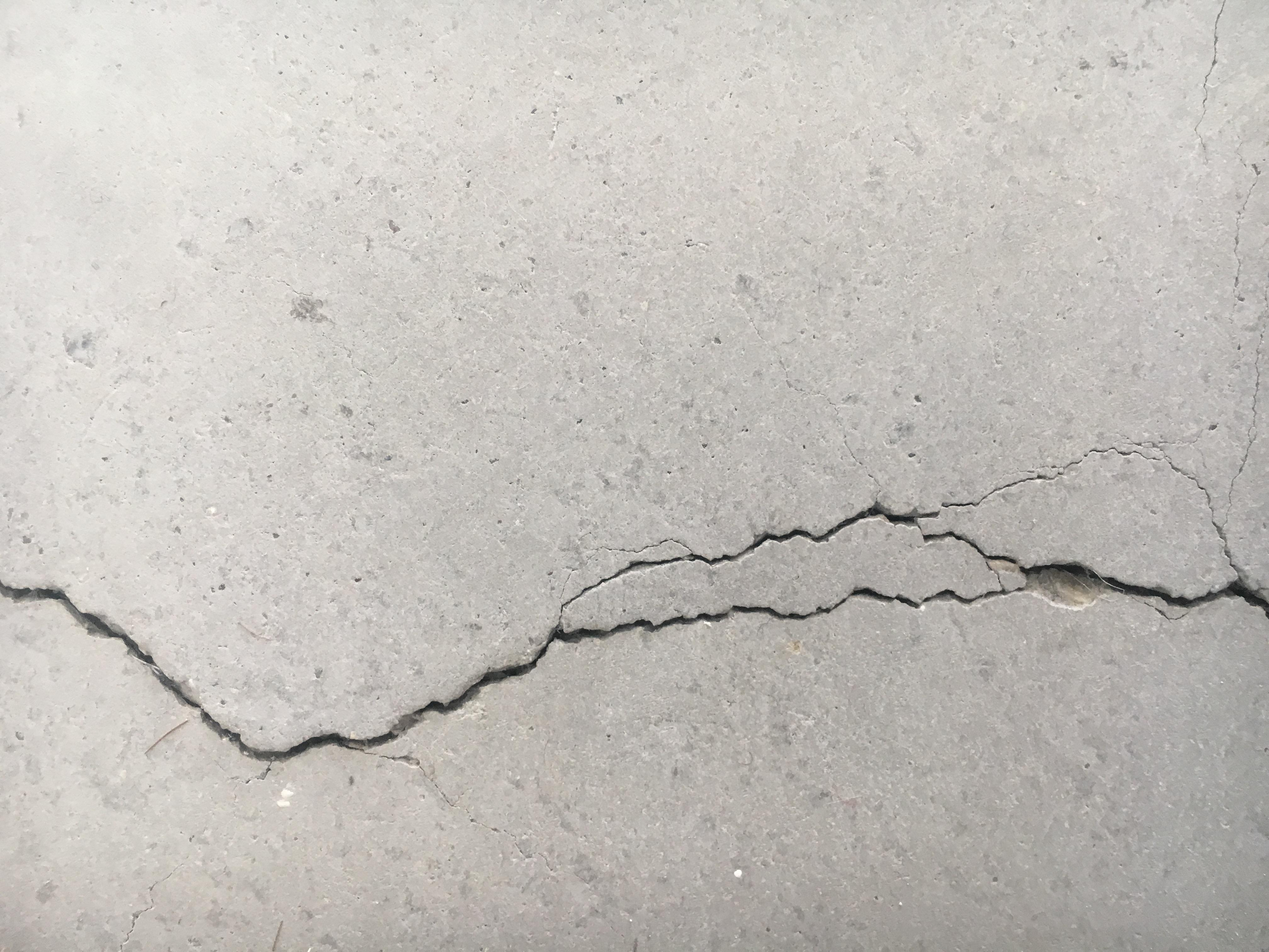Hairline-Crack: (1172, 0, 1262, 553)
Structural-Crack: (0, 422, 1269, 779)
